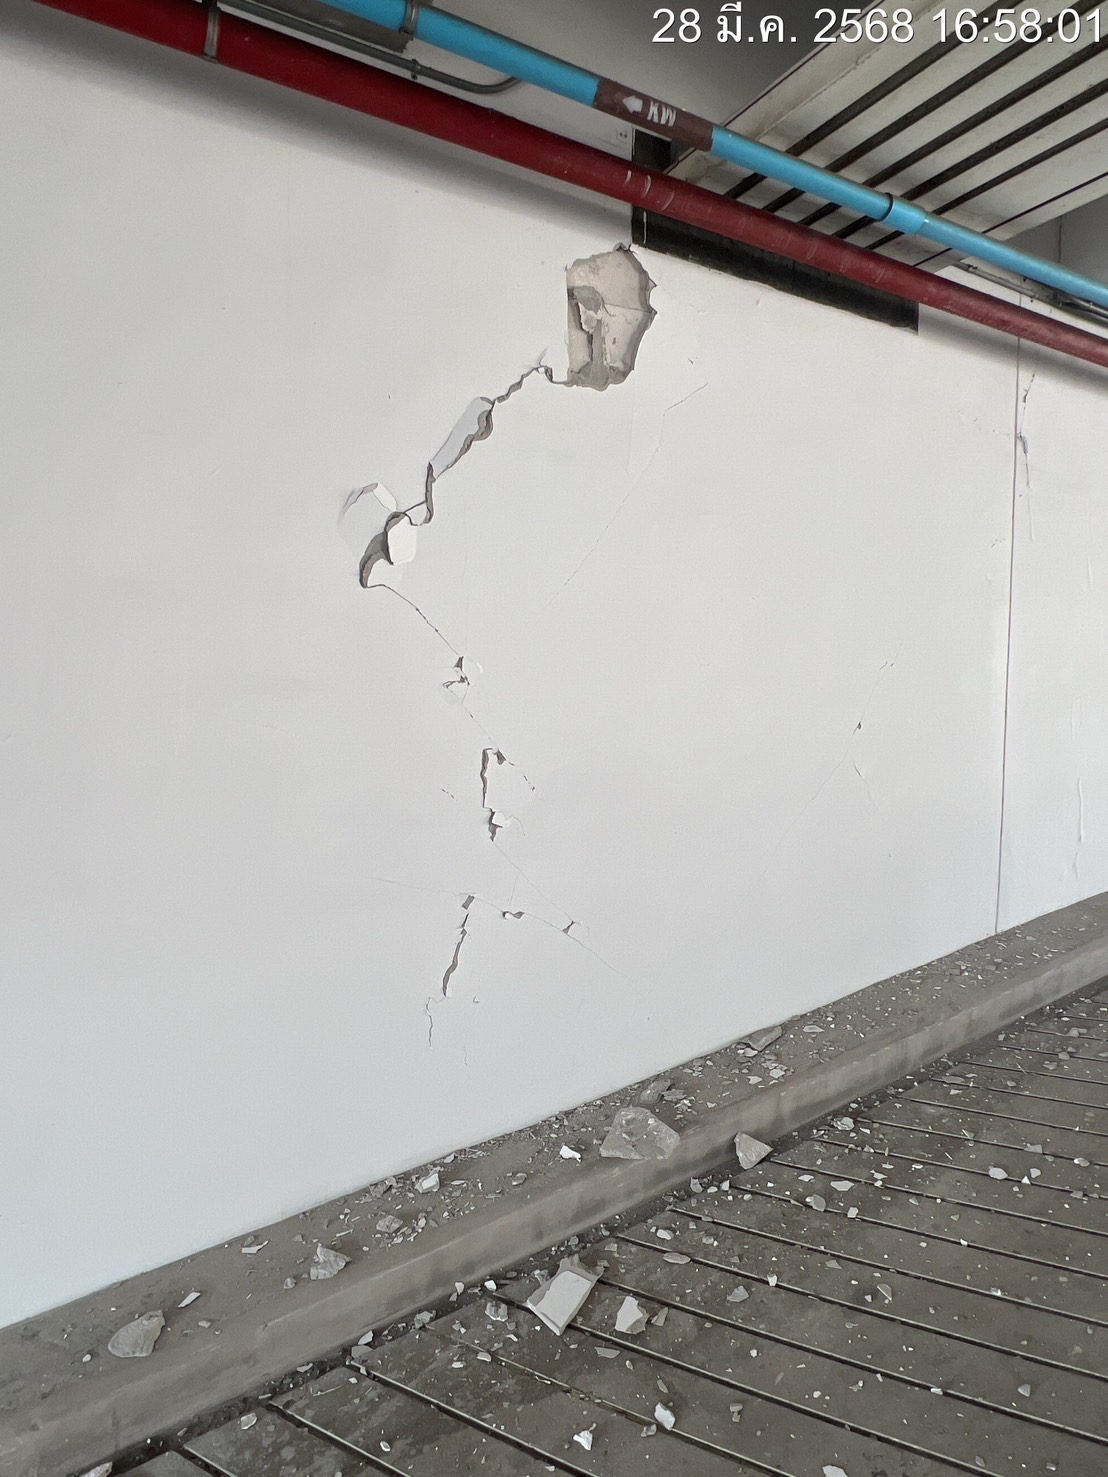High: (241, 210, 672, 1119)
